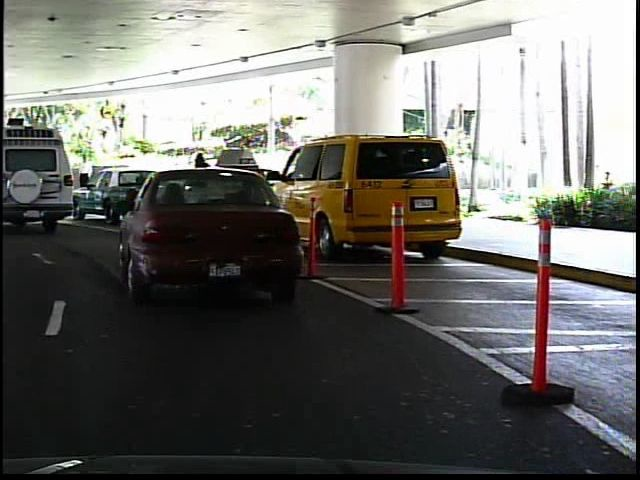person: (189, 145, 220, 212), (227, 141, 254, 212), (11, 158, 31, 196), (78, 149, 93, 189)
